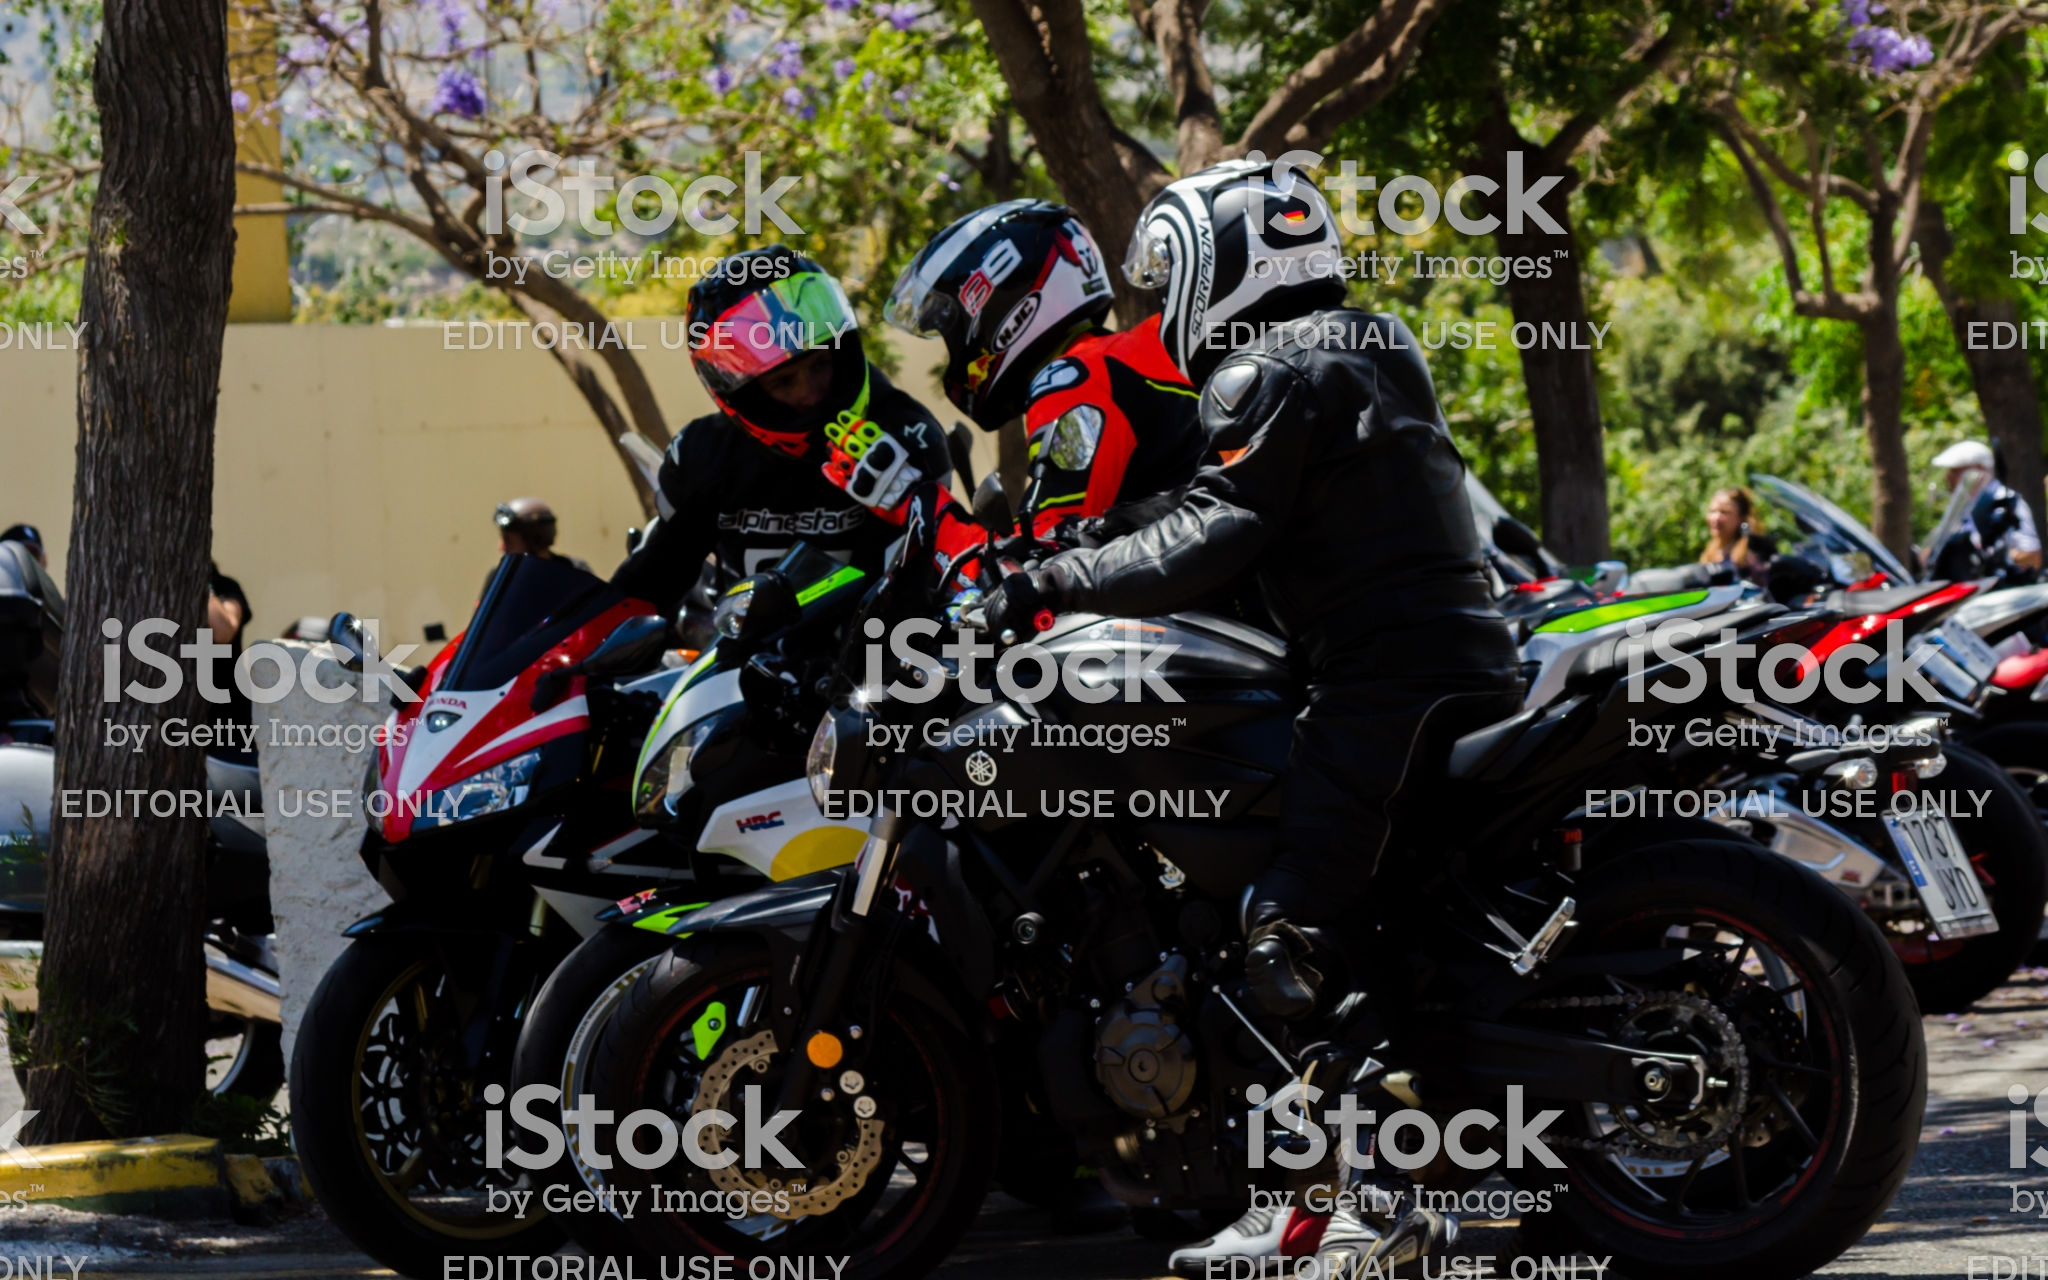helmet: (1132, 130, 1351, 373), (894, 189, 1124, 366), (689, 226, 868, 431)
